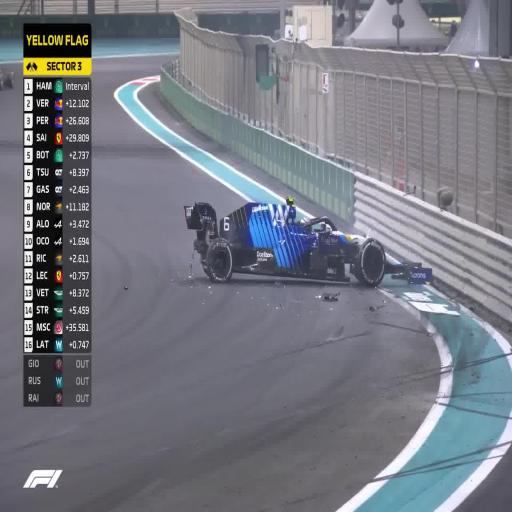f1_car: (184, 197, 431, 285)
